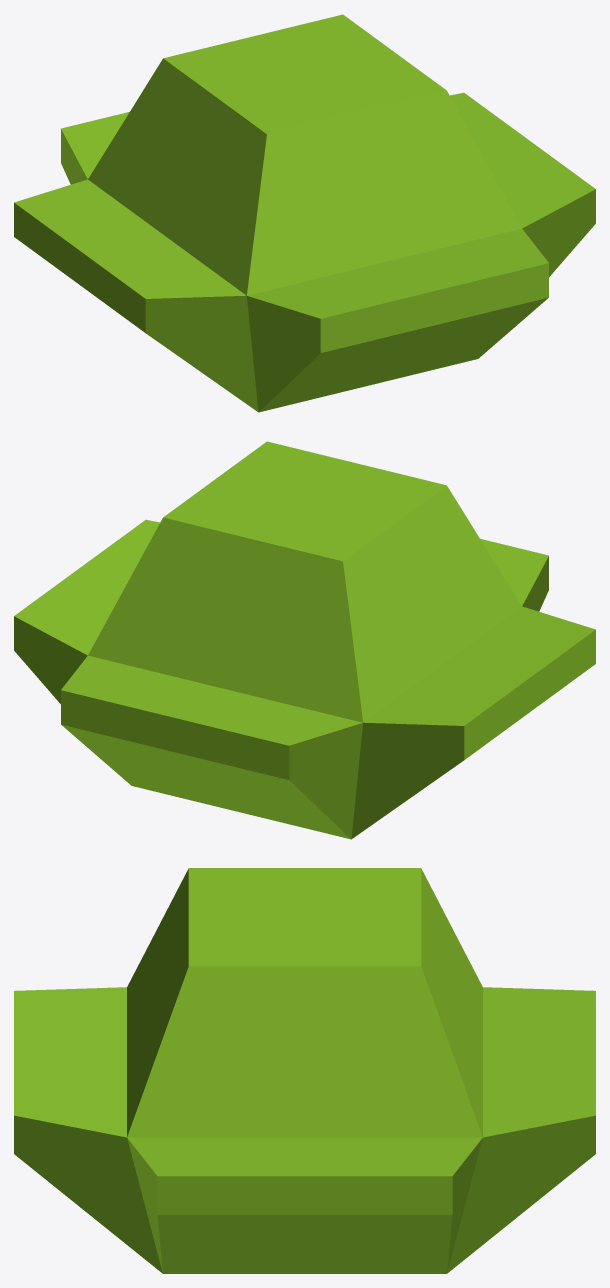
The model's file is Green.fbx.
The picture shows the model from 3 angles, top to bottom: view 1: azimuth 30°, elevation 25°; view 2: azimuth 150°, elevation 25°; view 3: azimuth 270°, elevation 25°; orthographic projection. The views are drawn at different scales.
Parts seen in each view (by area): view 1: Green; view 2: Green; view 3: Green.
Boxes of the visible parts, x1,y1,x2,y2 form: Green: [14, 14, 595, 412]; Green: [14, 441, 595, 839]; Green: [14, 868, 595, 1273].
Bounding box in the file's own units: 96.14 × 54.05 × 96.14.
